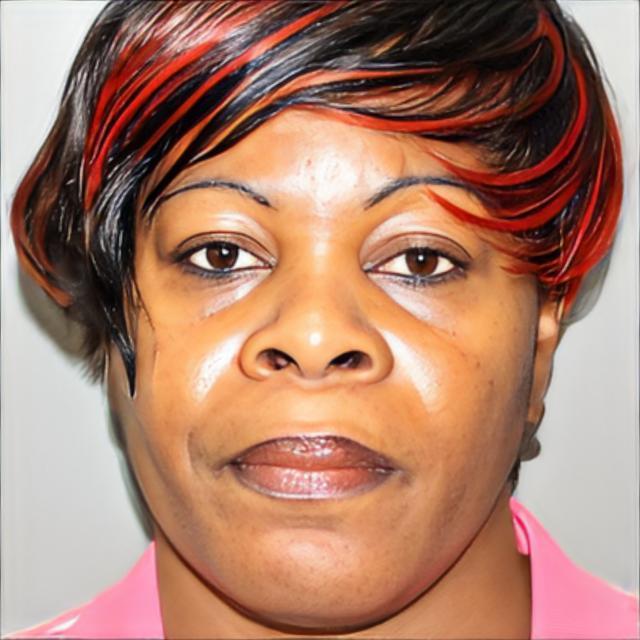neutral: (126, 68, 536, 629)
